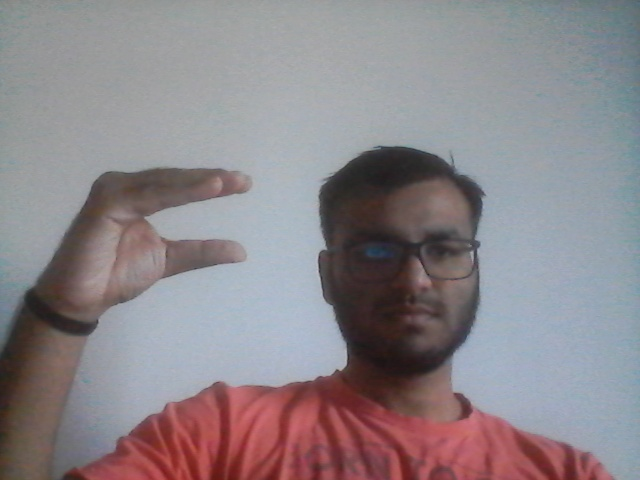No: (42, 163, 272, 309)
